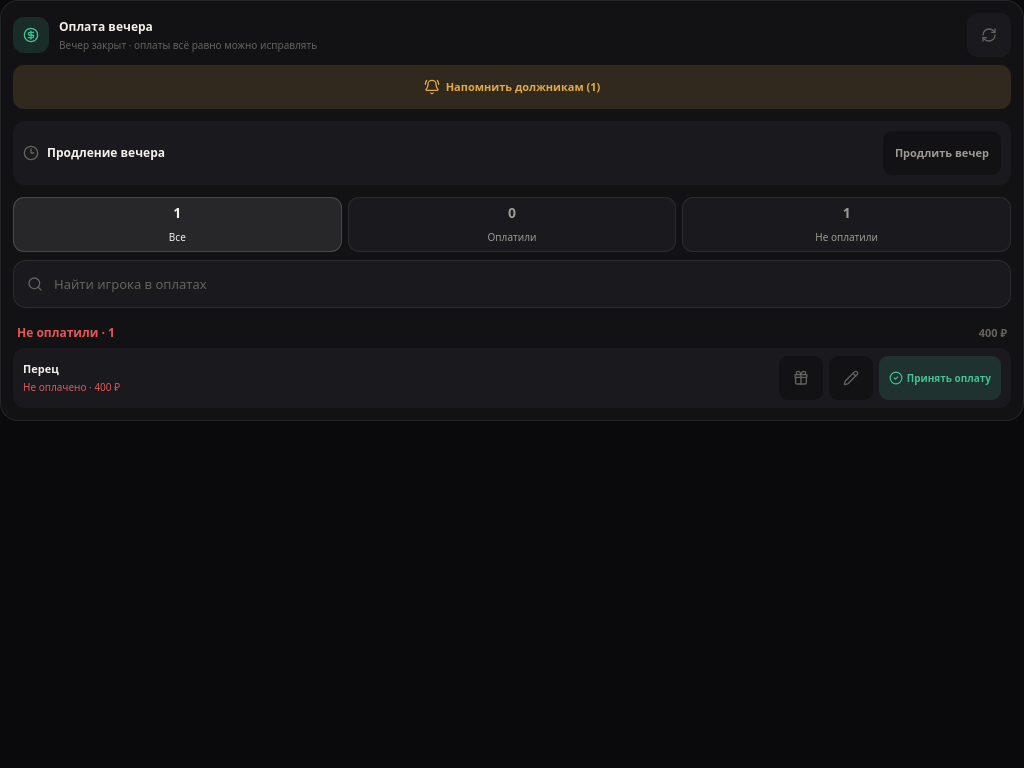
it: payments panel: a part of the sum by hand (owner, 2026-10-22) › does not allow more than the price
Click the button with test id "payment-amount-a": (851, 378) [829, 356, 873, 400]
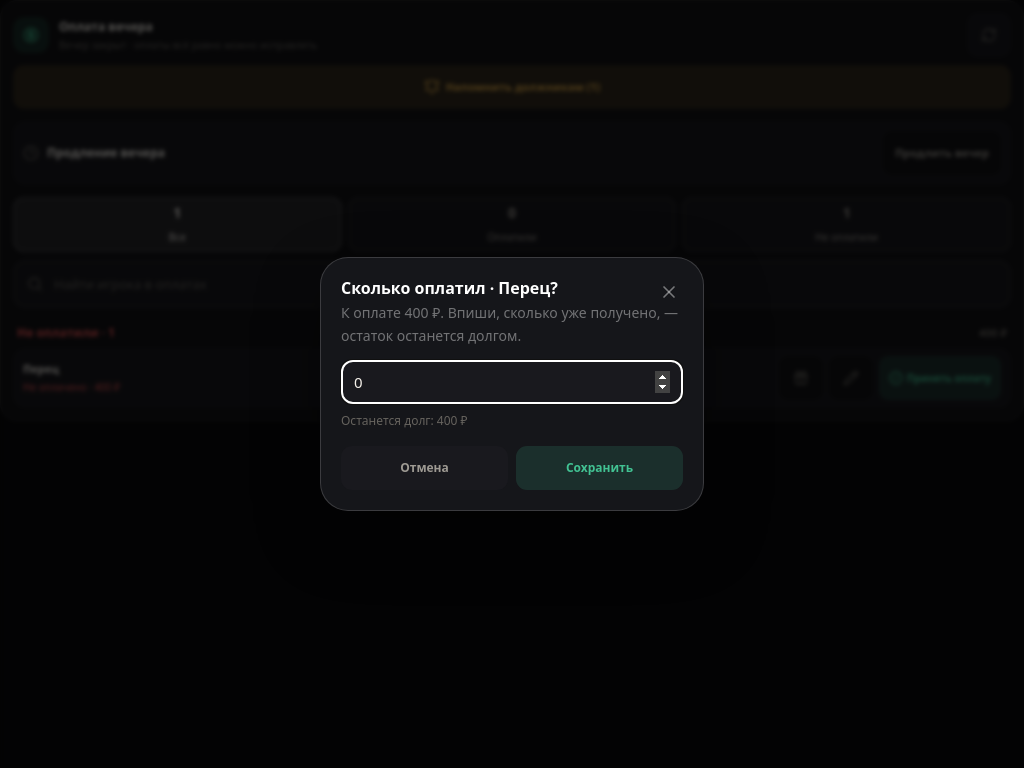
Replace the text in the number field named "Сколько получено, ₽" with "500": (512, 382) [341, 360, 683, 404]
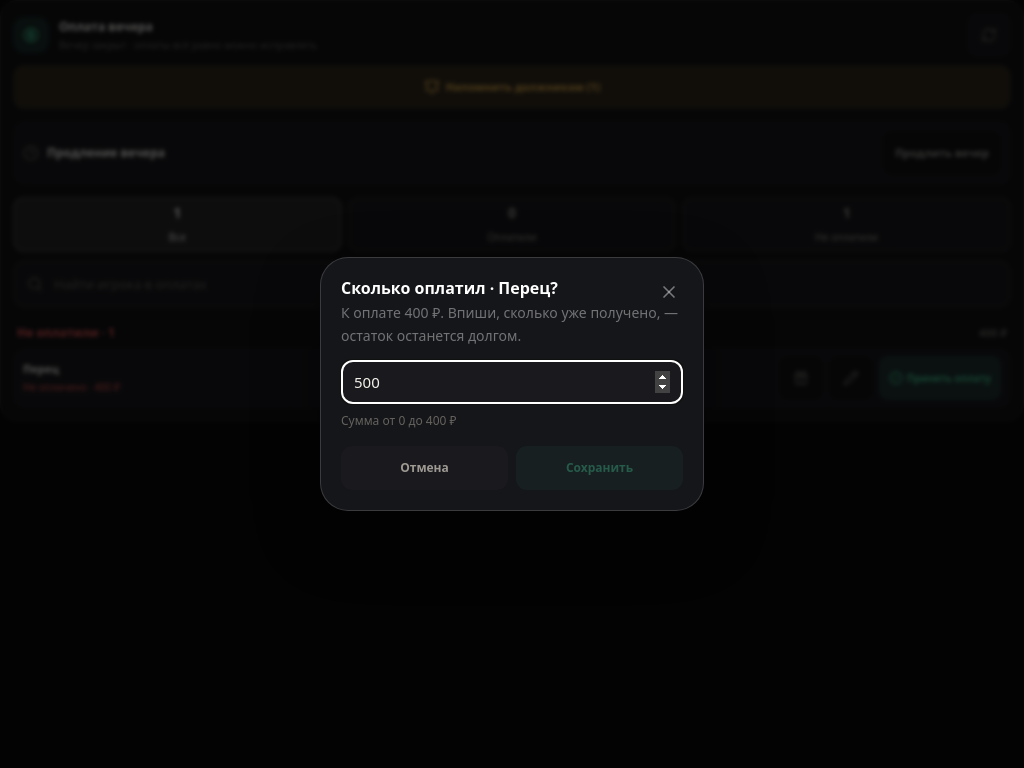
Now the button "Сохранить" is disabled, box [516, 446, 683, 490]
